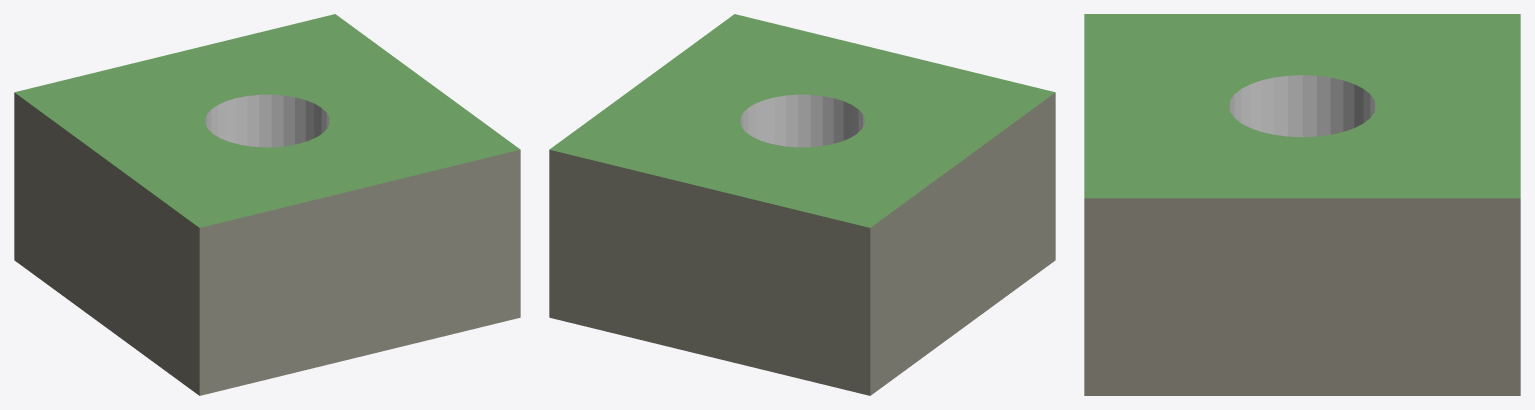
The model's file is Hole.fbx.
3 renders of one model, left to right at view 1: azimuth 30°, elevation 25°; view 2: azimuth 150°, elevation 25°; view 3: azimuth 270°, elevation 25°, orthographic. The views are drawn at different scales.
Visible parts, largest first — view 1: Hole; view 2: Hole; view 3: Hole.
Part boxes in pixels (bbox=[...]): Hole: bbox=[14, 14, 520, 395]; Hole: bbox=[549, 14, 1055, 395]; Hole: bbox=[1084, 14, 1520, 395].
Size of the model in its own units: 100 by 50 by 100.
